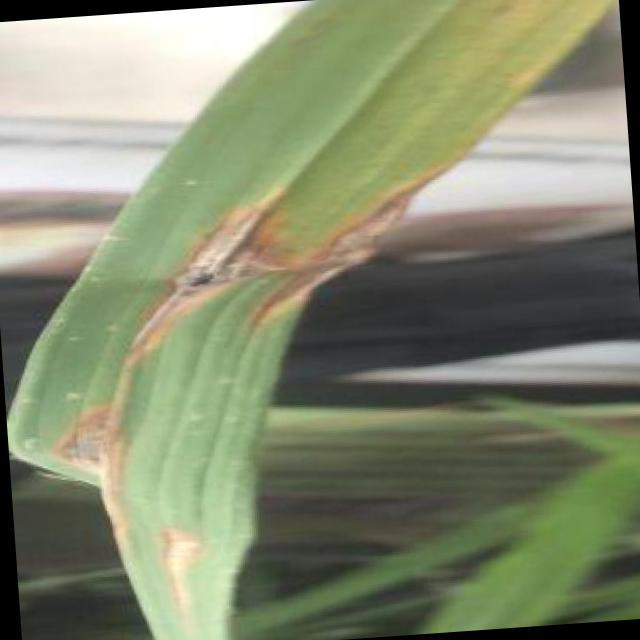Rice_Blast: (237, 155, 457, 310), (116, 171, 296, 342), (13, 358, 158, 518), (119, 500, 213, 620)
